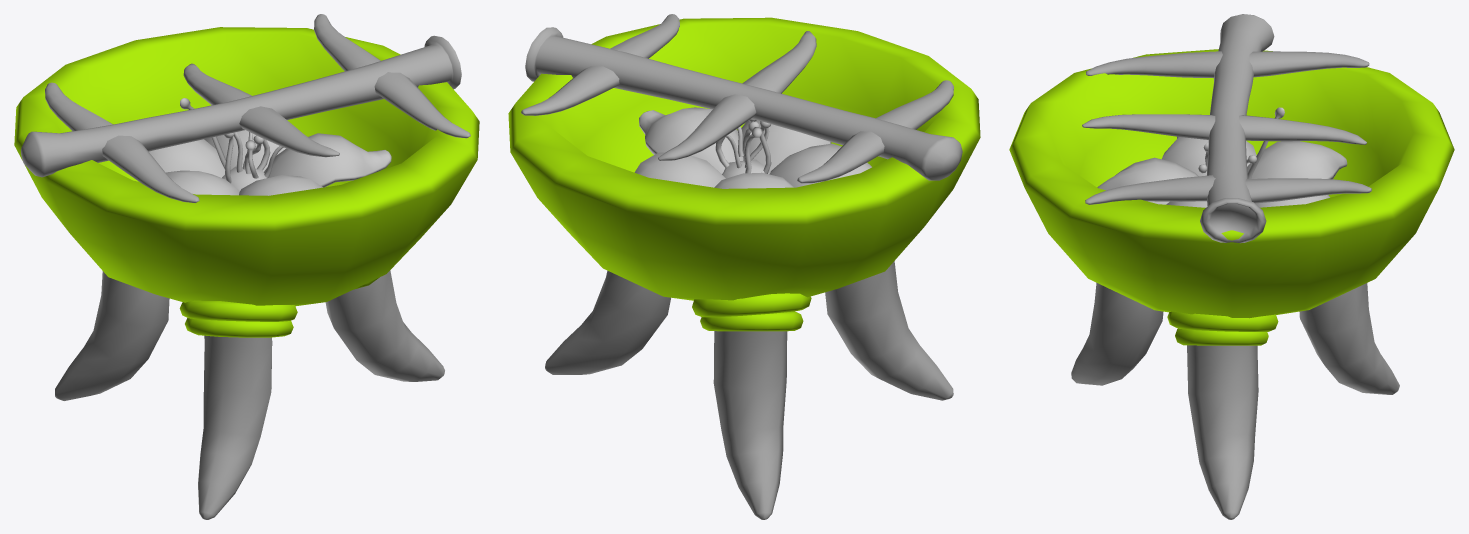
The model's file is Mode_barbeuc.fbx.
3 renders of one model, left to right at view 1: azimuth 30°, elevation 25°; view 2: azimuth 150°, elevation 25°; view 3: azimuth 270°, elevation 25°, orthographic. The views are drawn at different scales.
Visible parts, largest first — view 1: barbeuc, grille_barbeuc, fleur_recoltable1, Os06, Os05, Os07, pTorus2, pTorus3; view 2: barbeuc, grille_barbeuc, Os05, fleur_recoltable1, Os06, Os07, pTorus6, pTorus7; view 3: barbeuc, grille_barbeuc, Os07, fleur_recoltable1, Os05, Os06, pTorus5, pTorus4.
Part boxes in pixels (bbox=[...]): barbeuc: bbox=[14, 27, 479, 306]; grille_barbeuc: bbox=[21, 14, 470, 203]; fleur_recoltable1: bbox=[149, 98, 391, 195]; Os06: bbox=[198, 335, 272, 519]; Os05: bbox=[55, 271, 169, 400]; Os07: bbox=[325, 270, 444, 381]; pTorus2: bbox=[179, 300, 297, 321]; pTorus3: bbox=[185, 318, 293, 337]; barbeuc: bbox=[508, 17, 980, 300]; grille_barbeuc: bbox=[521, 14, 962, 183]; Os05: bbox=[713, 331, 787, 519]; fleur_recoltable1: bbox=[634, 107, 871, 188]; Os06: bbox=[825, 261, 953, 400]; Os07: bbox=[545, 270, 670, 374]; pTorus6: bbox=[692, 293, 811, 317]; pTorus7: bbox=[700, 311, 803, 331]; barbeuc: bbox=[1009, 49, 1454, 318]; grille_barbeuc: bbox=[1082, 14, 1371, 243]; Os07: bbox=[1187, 345, 1258, 519]; fleur_recoltable1: bbox=[1097, 107, 1347, 207]; Os05: bbox=[1299, 283, 1399, 394]; Os06: bbox=[1071, 282, 1163, 385]; pTorus5: bbox=[1167, 311, 1278, 331]; pTorus4: bbox=[1175, 328, 1268, 345].
Size of the model in its own units: 73.04 by 58.39 by 70.36.
